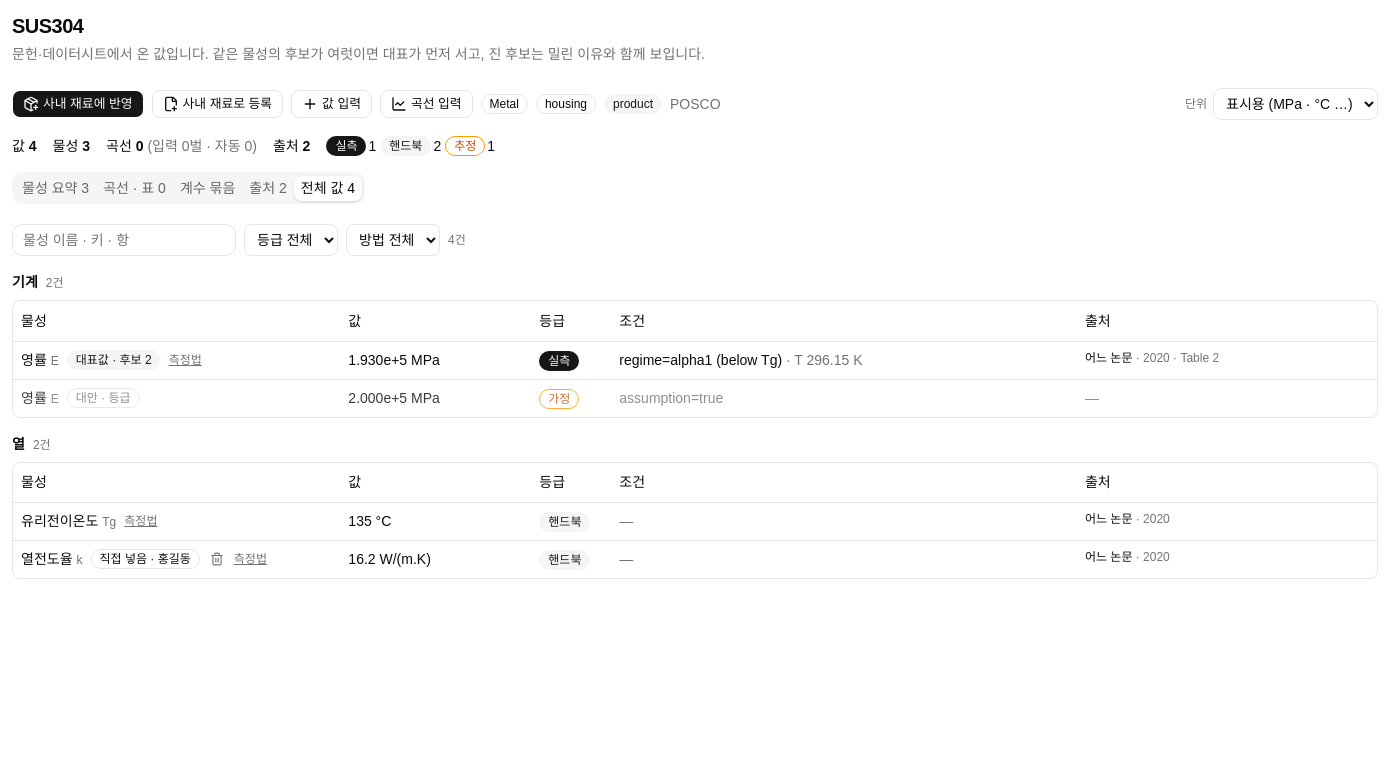
Test: 진 후보를 숨기지 않는다 › 단위 모드를 SI 로 바꾸면 Pa 로 보인다
The width and height of the screenshot is (1390, 780).
Expected: the icon "가정" is shown, [539,388,579,408]
Select "SI (Pa · K …)" in the dropdown named "단위 모드" at (1296, 104), box [1213,88,1378,120]
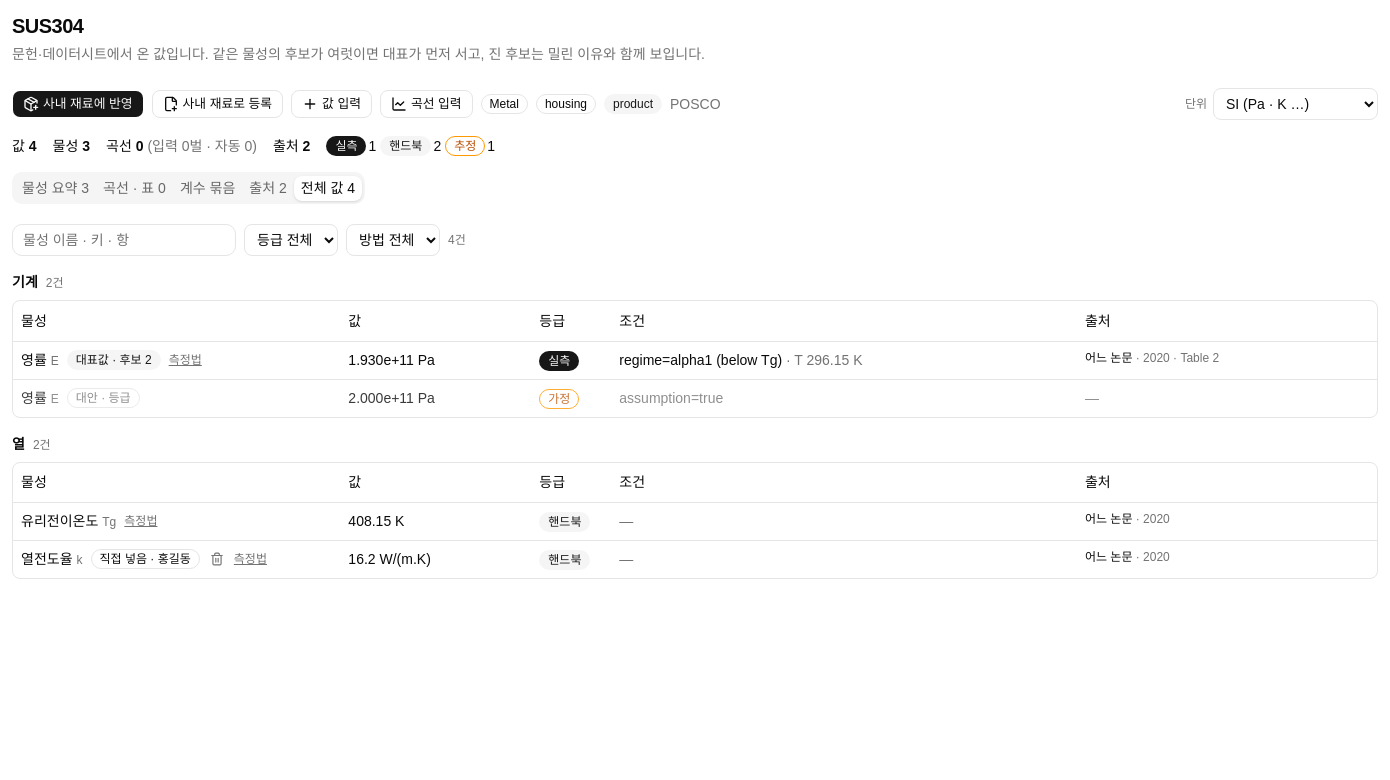
Expected: the text "2.000e+11 Pa" is shown, [340,379,531,416]
